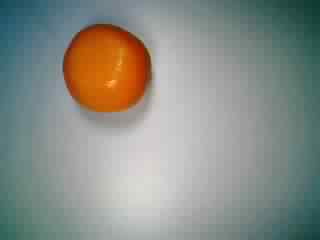orange: (57, 22, 152, 124)
